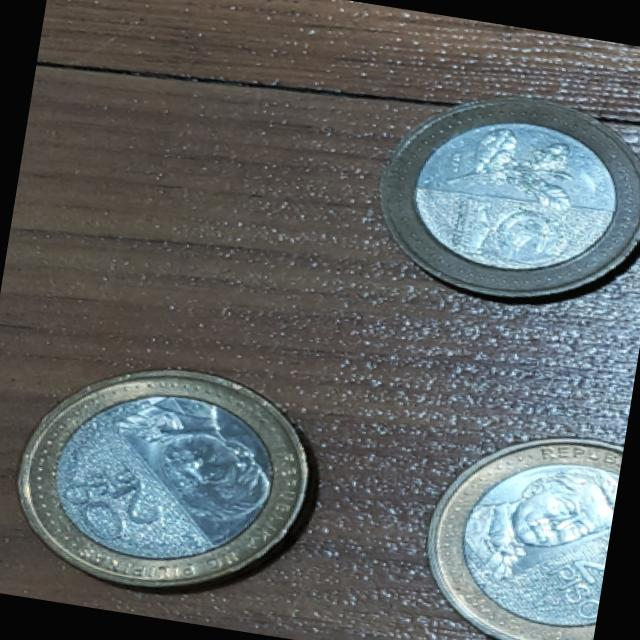20_peso: (18, 371, 307, 586), (380, 97, 640, 298), (431, 439, 622, 640)
